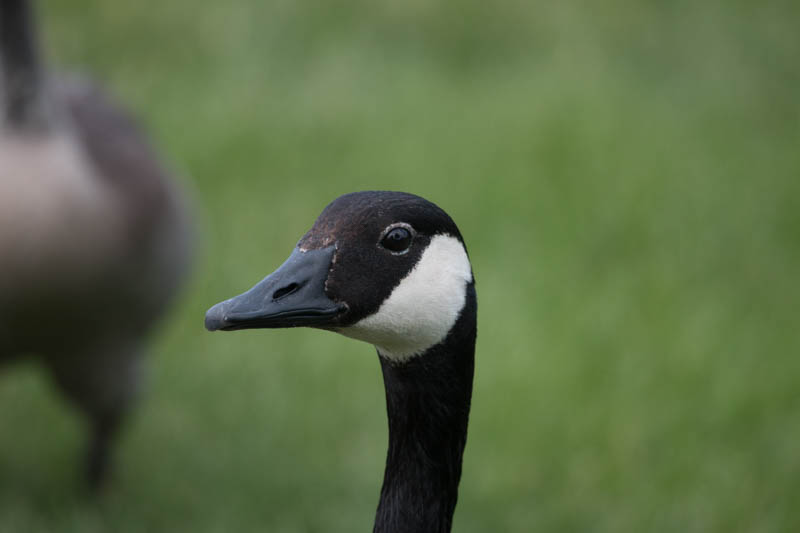goose-head: (202, 190, 478, 364)
